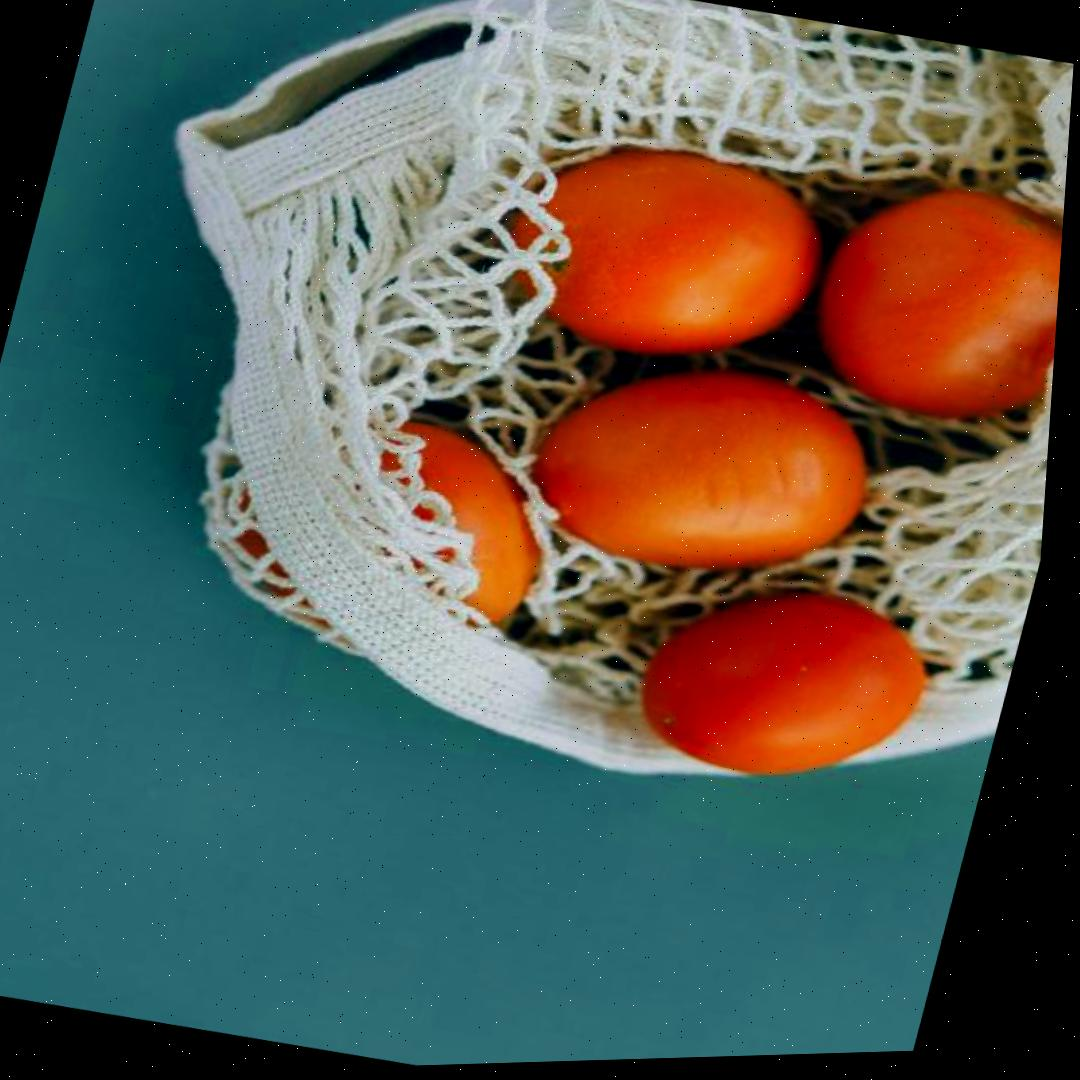matang: (524, 332, 895, 605), (493, 118, 842, 387), (618, 559, 945, 805), (798, 161, 1067, 444)
